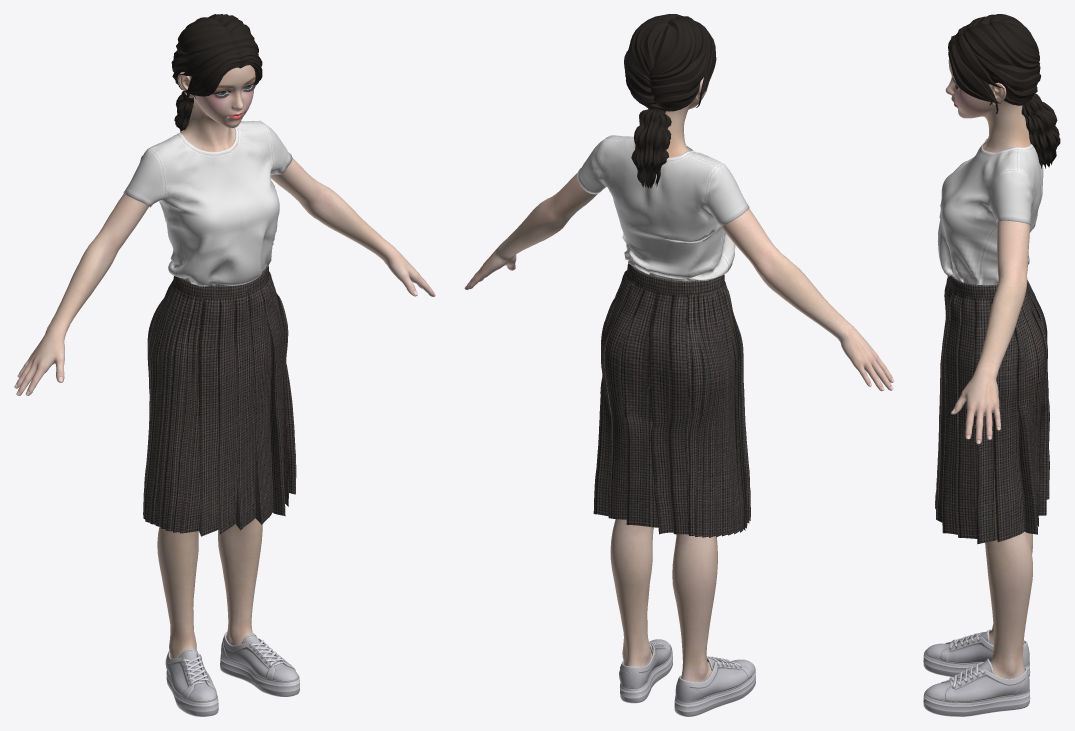
Rendered from shaonvblander02.glb.
3 views of the same model, side by side, from view 1: azimuth 30°, elevation 25°; view 2: azimuth 150°, elevation 25°; view 3: azimuth 270°, elevation 25° (orthographic). The views are drawn at different scales.
Visible parts, largest first — view 1: BJO Skirt.Shape, Genesis8_1Female.Shape, BJO Tshirt.Shape, BJO Sneakers.Shape, luren910; view 2: BJO Skirt.Shape, Genesis8_1Female.Shape, BJO Tshirt.Shape, luren910, BJO Sneakers.Shape; view 3: BJO Skirt.Shape, Genesis8_1Female.Shape, BJO Tshirt.Shape, luren910, BJO Sneakers.Shape.
Part boxes in pixels (box(x1,y1,x2,y2)): BJO Skirt.Shape: box(143, 265, 296, 536); Genesis8_1Female.Shape: box(14, 65, 435, 658); BJO Tshirt.Shape: box(123, 120, 292, 286); BJO Sneakers.Shape: box(165, 632, 299, 716); luren910: box(171, 14, 262, 131); BJO Skirt.Shape: box(593, 261, 750, 537); Genesis8_1Female.Shape: box(464, 77, 894, 682); BJO Tshirt.Shape: box(577, 135, 749, 281); luren910: box(624, 14, 716, 188); BJO Sneakers.Shape: box(619, 639, 756, 716); BJO Skirt.Shape: box(935, 276, 1049, 544); Genesis8_1Female.Shape: box(945, 58, 1036, 679); BJO Tshirt.Shape: box(937, 138, 1043, 285); luren910: box(948, 14, 1060, 168); BJO Sneakers.Shape: box(923, 629, 1030, 716).
Size of the model in its own units: 0.9826 by 1.5 by 0.2764.
Materials: 34 (30 with a texture image).
